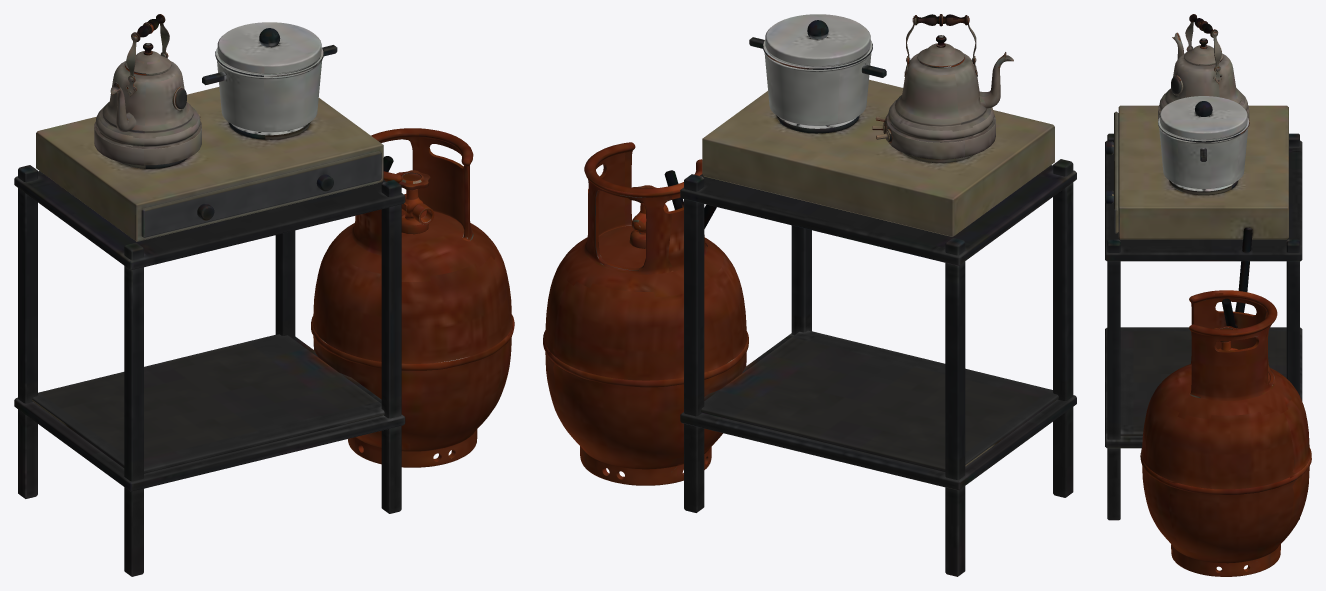
The model's file is cooker.glb.
The picture shows the model from 3 angles, left to right: view 1: azimuth 30°, elevation 25°; view 2: azimuth 150°, elevation 25°; view 3: azimuth 270°, elevation 25°; orthographic projection. The views are drawn at different scales.
Parts seen in each view (by area): view 1: cooker; view 2: cooker; view 3: cooker.
Boxes of the visible parts, left/top/right/bottom form: cooker: left=14, top=14, right=514, bottom=576; cooker: left=543, top=14, right=1076, bottom=576; cooker: left=1105, top=14, right=1311, bottom=576.
Bounding box in the file's own units: 0.9616 × 1.03 × 0.4612.
Materials: 2 (2 with a texture image).
